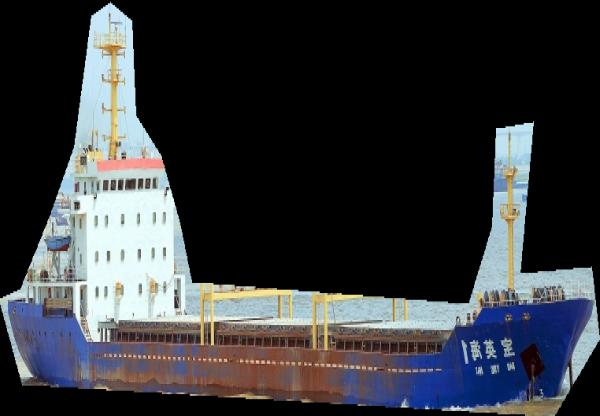Bulkers: (0, 1, 600, 416)
